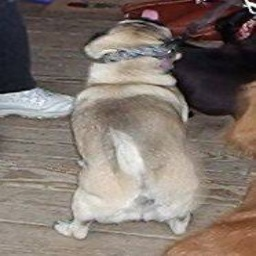dog: (55, 19, 210, 249)
